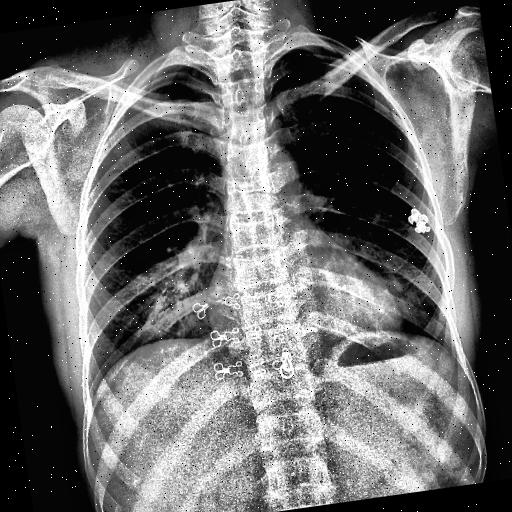11- Pleural thickening: (284, 46, 308, 56)
3- Cardiomegaly: (202, 255, 408, 366), (201, 267, 405, 375), (204, 263, 402, 363)
7- Lung Opacity: (146, 276, 208, 338)
